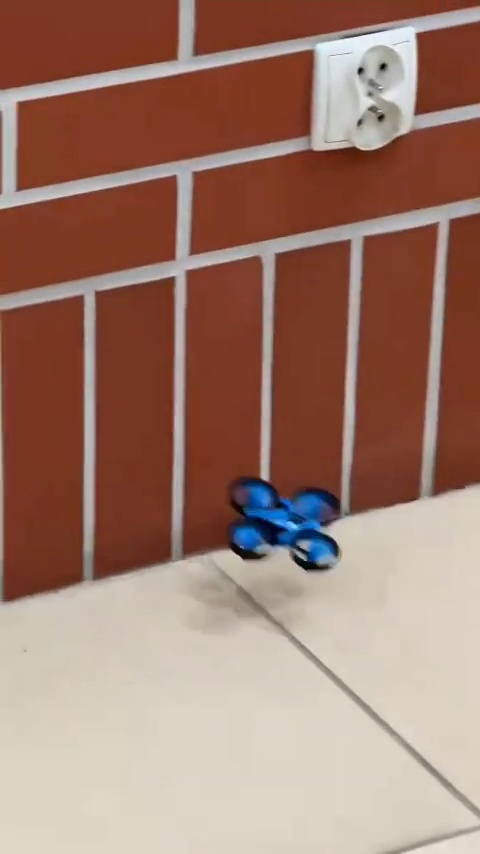drone: (221, 479, 339, 572)
